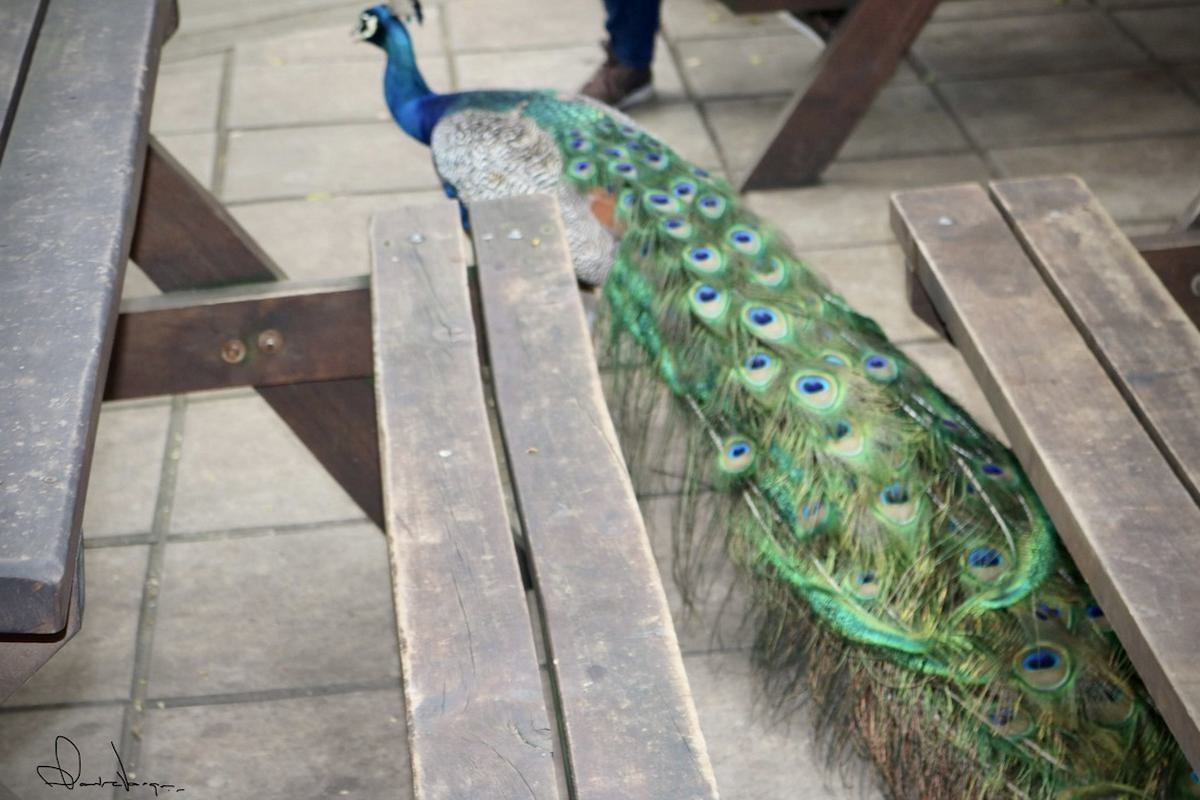peacock: (328, 3, 1088, 800)
